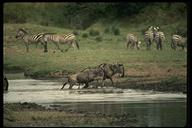antelope: (78, 58, 125, 88), (61, 66, 106, 89), (2, 74, 9, 92)
water: (67, 90, 185, 110)
zebra: (40, 32, 80, 54), (14, 28, 48, 53), (141, 24, 156, 50), (154, 25, 166, 52), (170, 33, 187, 52), (125, 32, 142, 50)
